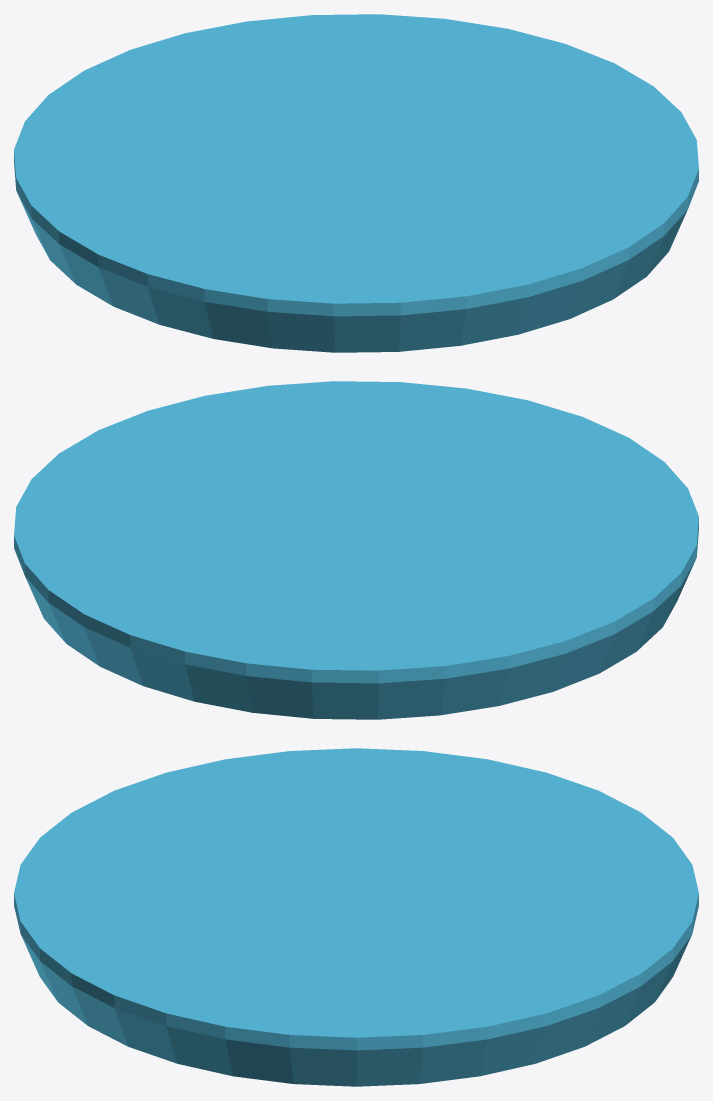
The model's file is water.glb.
The picture shows the model from 3 angles, top to bottom: view 1: azimuth 30°, elevation 25°; view 2: azimuth 150°, elevation 25°; view 3: azimuth 270°, elevation 25°; orthographic projection.
Visible parts, largest first — view 1: Water; view 2: Water; view 3: Water.
Part boxes in pixels (x1=…): Water: x1=14, y1=14, x2=698, y2=352; Water: x1=14, y1=381, x2=698, y2=719; Water: x1=14, y1=748, x2=698, y2=1086.
Size of the model in its own units: 3.87 by 0.3571 by 3.87.
